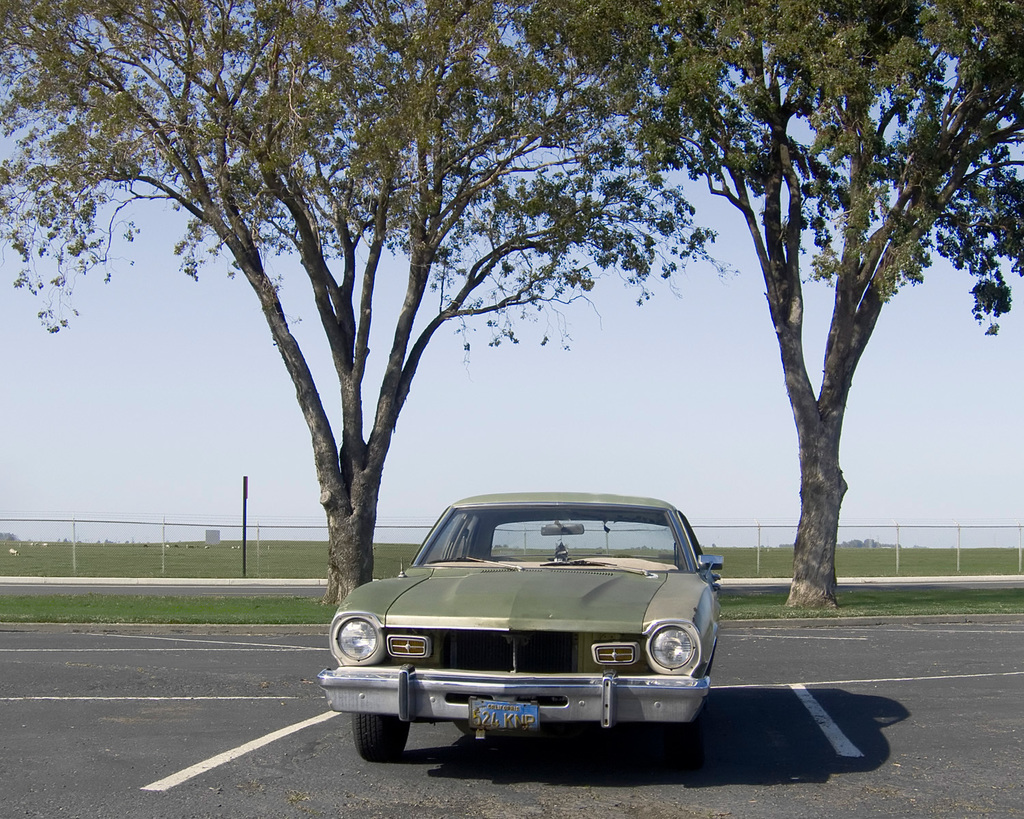cars: (317, 495, 732, 782)
